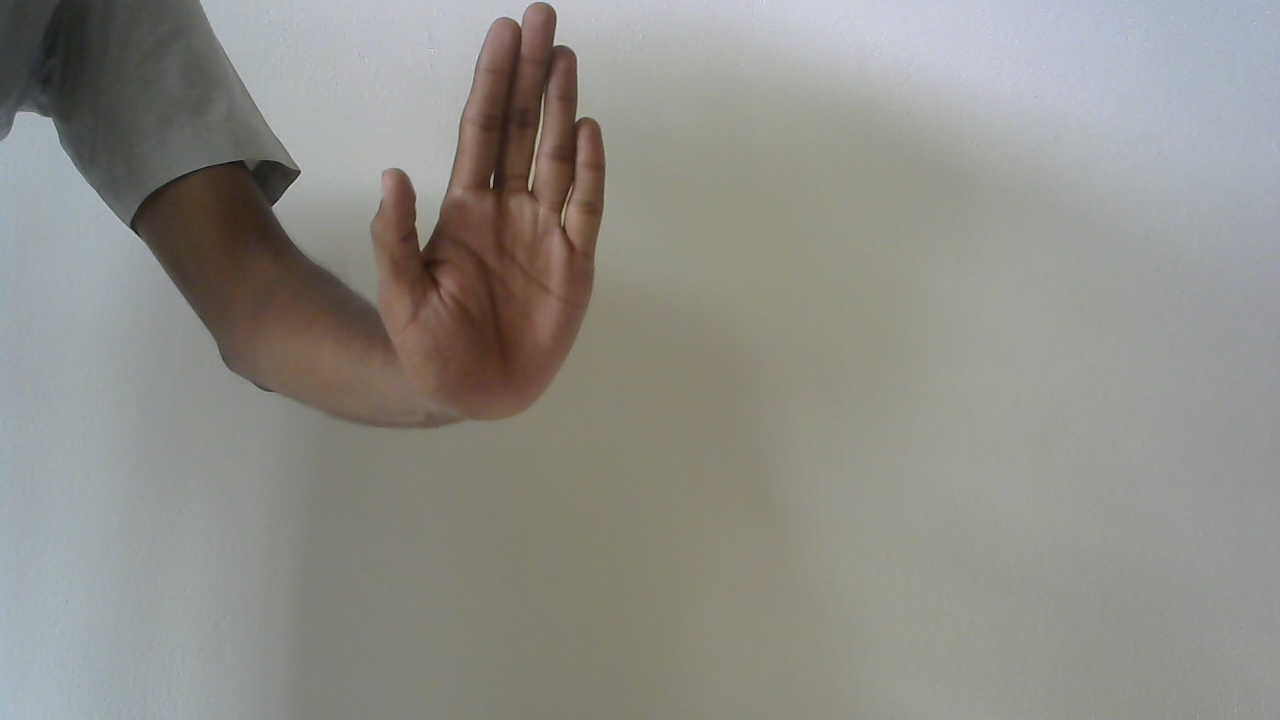hello: (364, 7, 619, 433)
